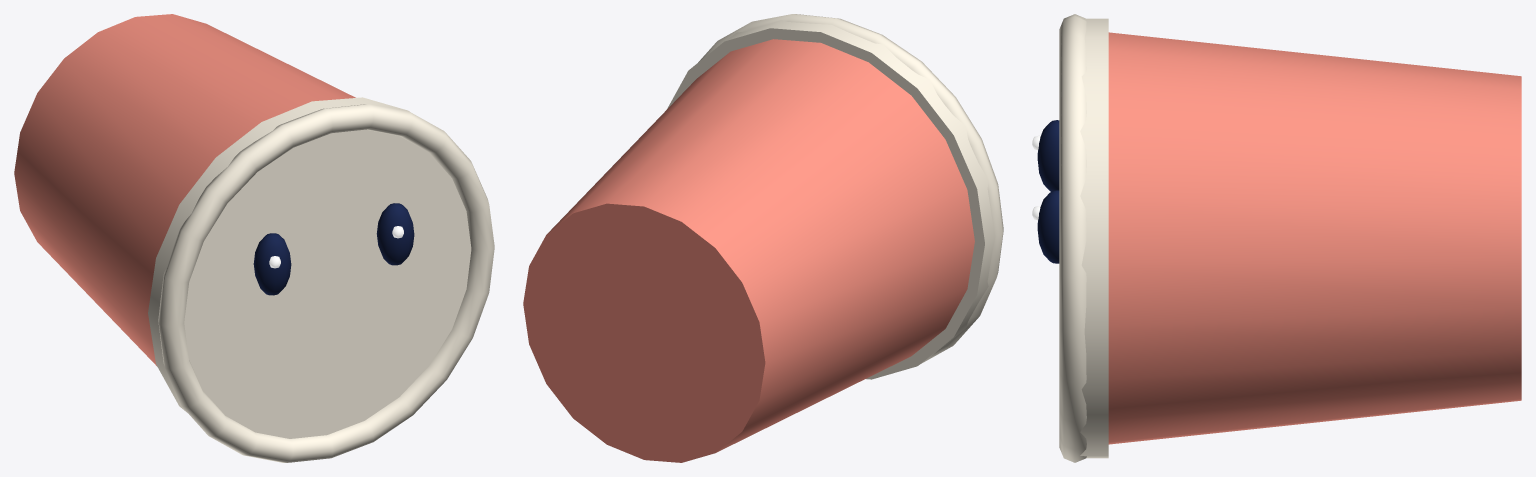
Rendered from bongo-low.glb.
3 renders of one model, left to right at view 1: azimuth 30°, elevation 25°; view 2: azimuth 150°, elevation 25°; view 3: azimuth 270°, elevation 25°, orthographic. The views are drawn at different scales.
Visible parts, largest first — view 1: Body, Eyes; view 2: Body; view 3: Body, Eyes.
Part boxes in pixels (bbox=[...]): Body: bbox=[14, 14, 494, 462]; Eyes: bbox=[253, 203, 414, 295]; Body: bbox=[523, 14, 1003, 462]; Body: bbox=[1059, 14, 1521, 462]; Eyes: bbox=[1032, 120, 1059, 263].
Bounding box in the file's own units: 0.114 × 0.114 × 0.1238.
